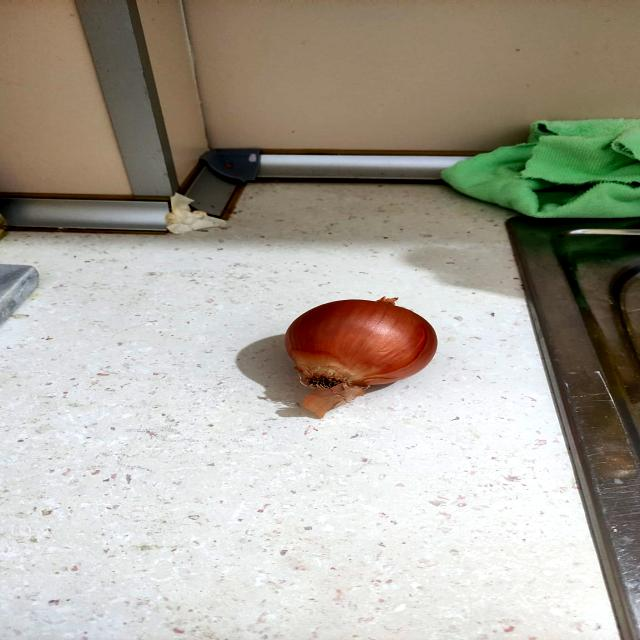onion: (265, 294, 466, 416)
